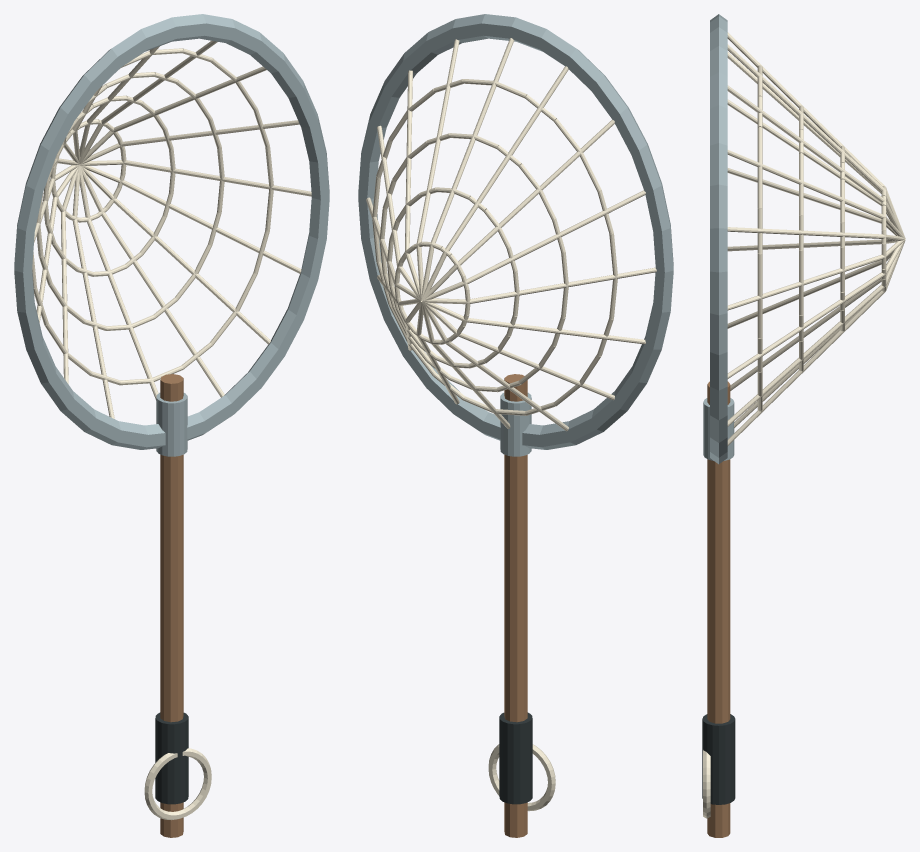
The model's file is harbor-and-tackle-oval-landing-net-e5392494__19568.glb.
The picture shows the model from 3 angles, left to right: view 1: azimuth 30°, elevation 25°; view 2: azimuth 150°, elevation 25°; view 3: azimuth 270°, elevation 25°; orthographic projection.
Visible parts, largest first — view 1: metal, ivory, cedar, rubber; view 2: ivory, metal, cedar, rubber; view 3: ivory, metal, cedar, rubber.
Boxes of the visible parts, x1=… form: metal: x1=14, y1=14, x2=329, y2=456; ivory: x1=32, y1=40, x2=311, y2=820; cedar: x1=160, y1=374, x2=183, y2=837; rubber: x1=155, y1=712, x2=188, y2=804; ivory: x1=366, y1=38, x2=656, y2=811; metal: x1=358, y1=14, x2=673, y2=456; cedar: x1=504, y1=374, x2=527, y2=837; rubber: x1=499, y1=712, x2=532, y2=804; ivory: x1=703, y1=32, x2=905, y2=818; metal: x1=703, y1=14, x2=734, y2=464; cedar: x1=707, y1=381, x2=730, y2=837; rubber: x1=702, y1=714, x2=735, y2=804.
Size of the model in its own units: 0.742 by 1.83 by 0.4187.
